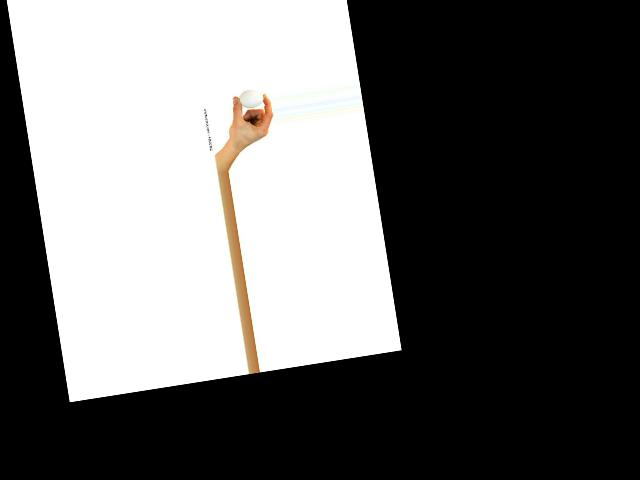egg: (237, 89, 264, 110)
